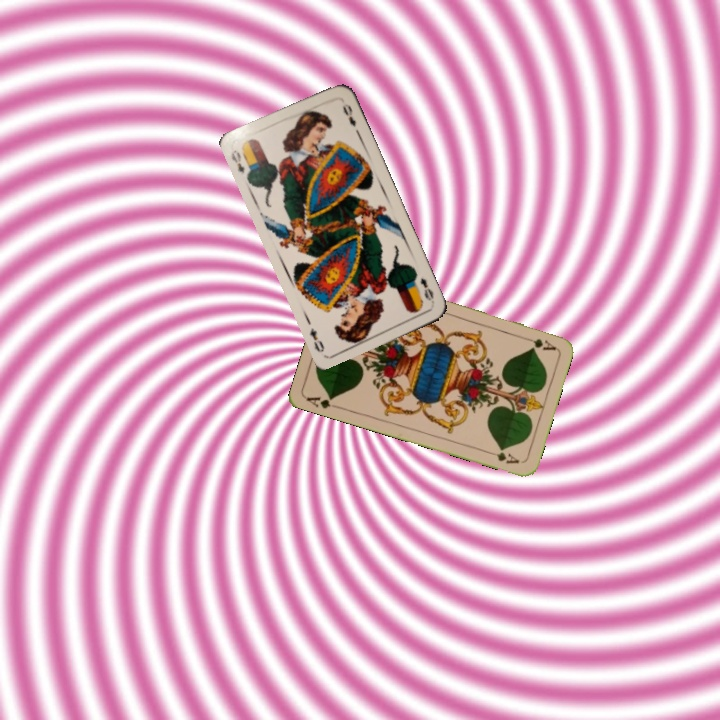EO: (416, 274, 437, 307), (227, 146, 247, 175)
GA: (302, 392, 343, 412), (519, 333, 558, 353)
